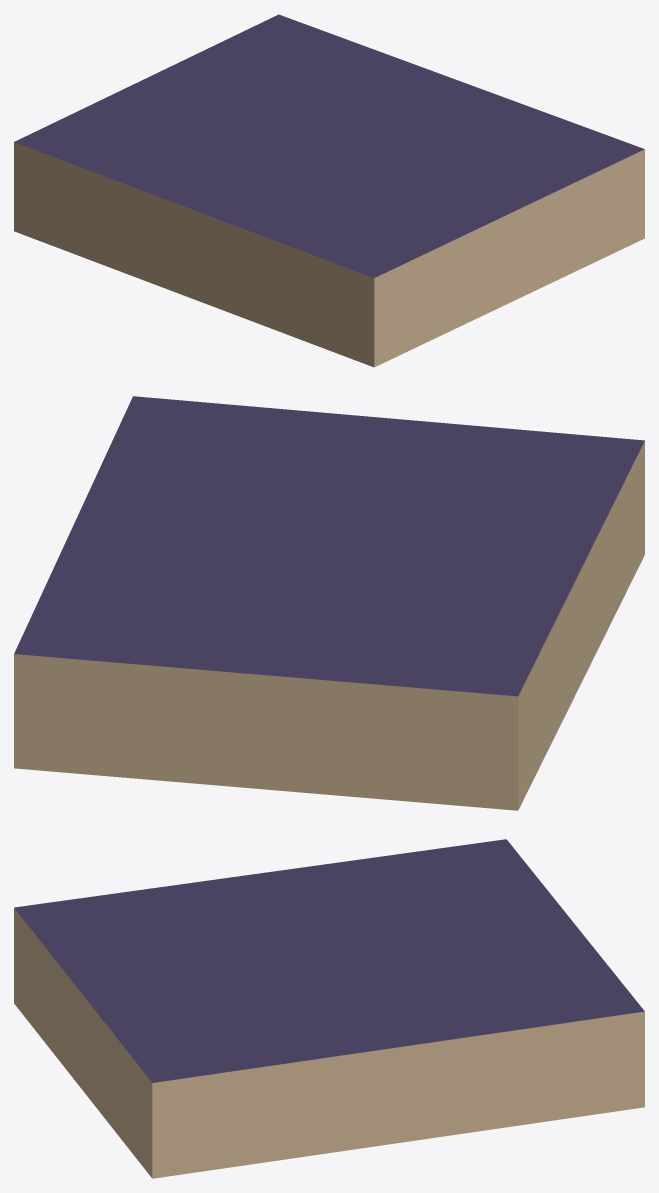
3 views of the same model, one above another, from view 1: azimuth 30°, elevation 25°; view 2: azimuth 150°, elevation 25°; view 3: azimuth 270°, elevation 25° (orthographic). The views are drawn at different scales.
Parts seen in each view (by area): view 1: campus/b-028-0; view 2: campus/b-028-0; view 3: campus/b-028-0.
Boxes of the visible parts, <box> form: campus/b-028-0: <box>14,14,644,367</box>; campus/b-028-0: <box>14,396,644,810</box>; campus/b-028-0: <box>14,839,644,1178</box>.
Bounding box in the file's own units: 16.38 × 3 × 17.91.
